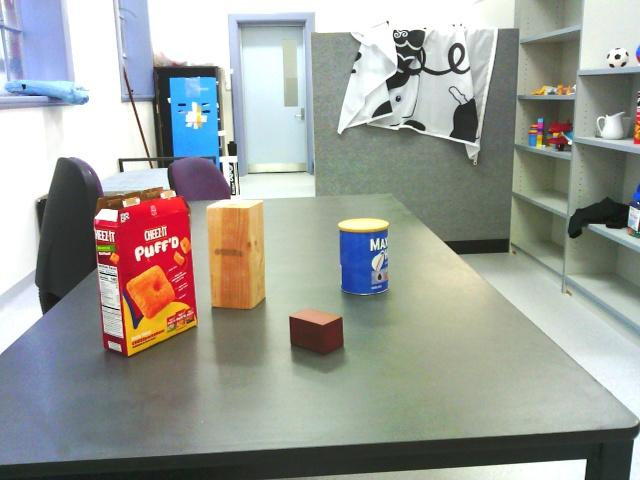002_master_chef_can: (336, 220, 394, 300)
003_cracker_box: (85, 186, 202, 358)
036_wood_block: (199, 198, 274, 315)
061_foam_brick: (284, 304, 345, 356)
